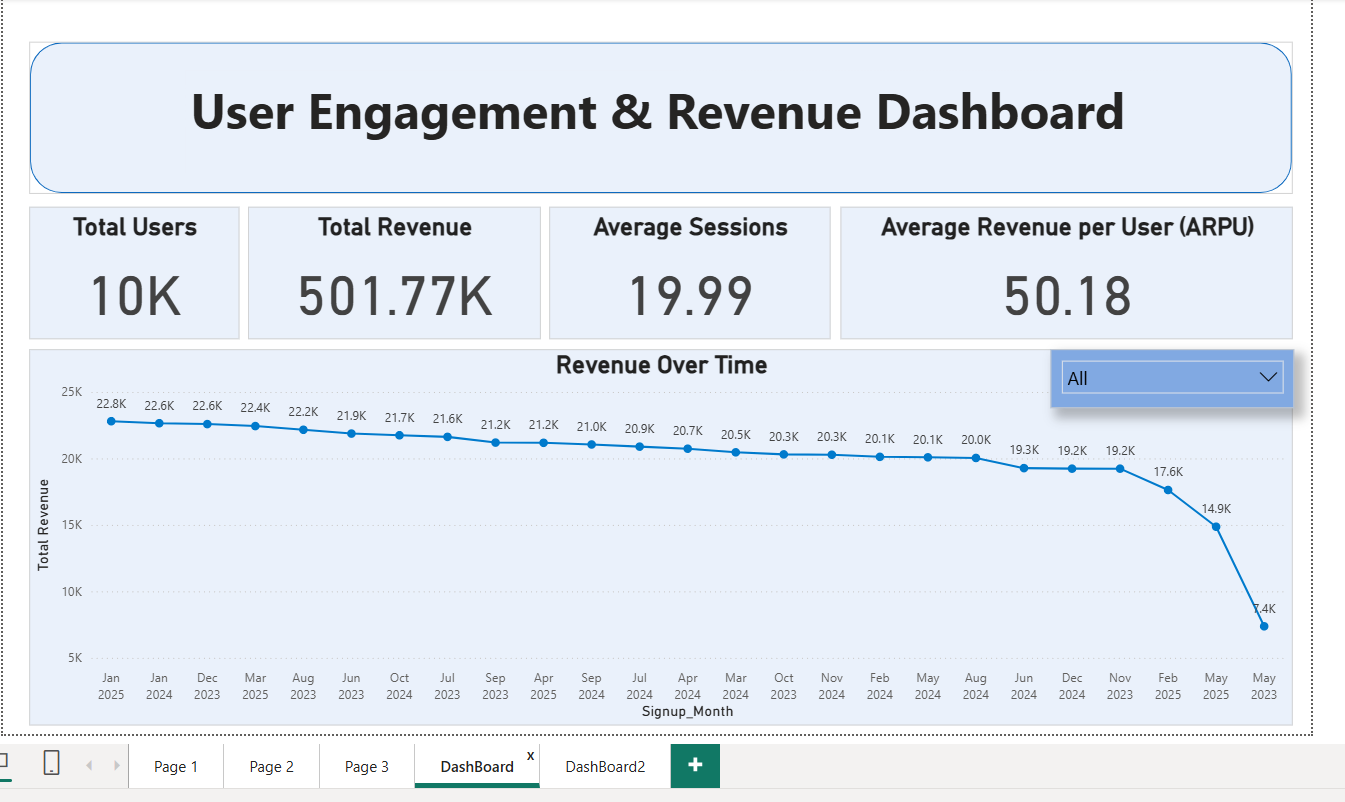

The dashboard page shown, as its layout file describes it:
{"tool":"powerbi","page":{"name":"Page 1","canvas":[1280,720],"ordinal":0},"visuals":[{"type":"card","title":"Total Users","fields":{"Values":["Matiks - Data Analyst Data - Sheet1.Total Users"]},"box":[12.2,58.7,200.5,129.6],"z":0},{"type":"card","title":"Total Revenue","fields":{"Values":["Matiks - Data Analyst Data - Sheet1.Total Revenue"]},"box":[212.8,62.4,304.5,122.3],"z":1000},{"type":"card","title":"Average Revenue per User (ARPU)","fields":{"Values":["Matiks - Data Analyst Data - Sheet1.ARPU"]},"box":[915.9,62.4,338.7,139.4],"z":2000},{"type":"card","title":"Average Sessions","fields":{"Values":["Matiks - Data Analyst Data - Sheet1.Average Sessions"]},"box":[558.8,53.8,338.7,139.4],"z":3000},{"type":"lineChart","title":"Revenue Over Time","fields":{"Category":["Matiks - Data Analyst Data - Sheet1.Signup_Month"],"Y":["Matiks - Data Analyst Data - Sheet1.Total Revenue"]},"box":[42.8,293.5,731.3,355.8],"z":4000},{"type":"slicer","fields":{"Values":["Matiks - Data Analyst Data - Sheet1.Device_Type","Matiks - Data Analyst Data - Sheet1.Subscription_Tier"]},"box":[811.4,503.6,172.6,145.5],"z":5000}]}

Visuals, with their boxes on the page's 1280x720 design canvas (x1, y1, x2, y2). These are canvas units, not pixel positions in the 1345x802 screenshot, which may show the page scaled, cropped or inside an application window:
"Total Users" card: [12,59,213,188]
"Total Revenue" card: [213,62,517,185]
"Average Revenue per User (ARPU)" card: [916,62,1255,202]
"Average Sessions" card: [559,54,898,193]
"Revenue Over Time" lineChart: [43,294,774,649]
slicer - Matiks - Data Analyst Data - Sheet1.Device_Type x Matiks - Data Analyst Data - Sheet1.Subscription_Tier: [811,504,984,649]
